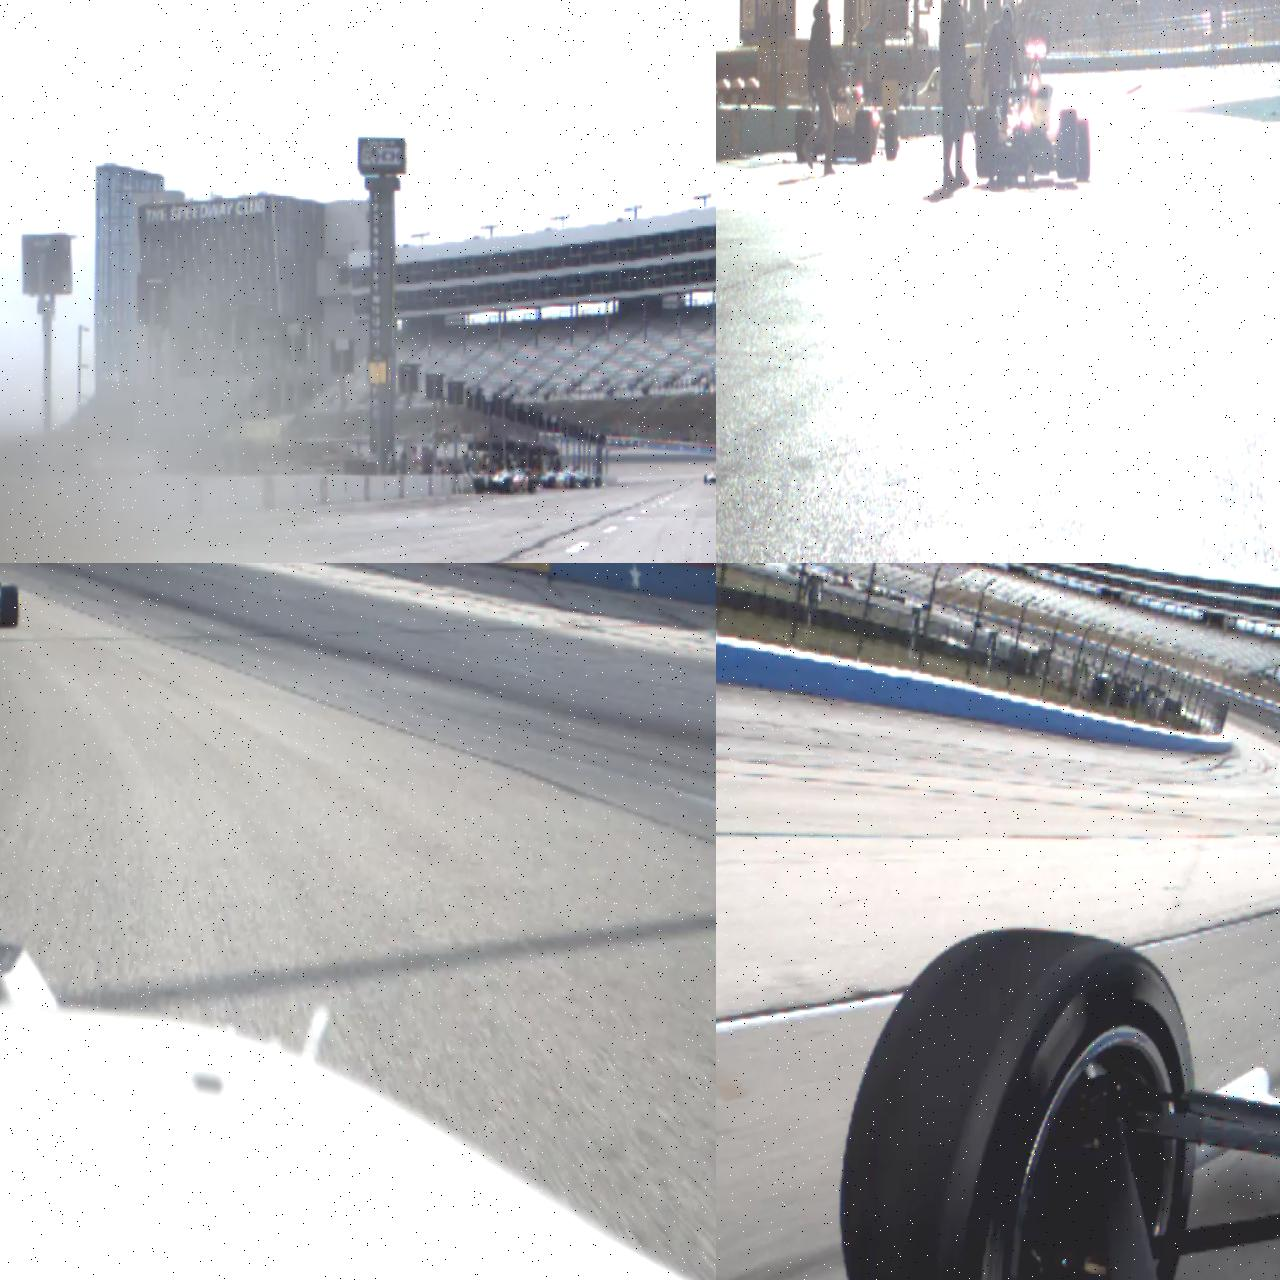AV: (974, 43, 1092, 183), (795, 62, 901, 164), (704, 467, 716, 484)
Wheel: (835, 924, 1201, 1280), (975, 108, 998, 178), (1058, 109, 1080, 177), (795, 110, 815, 162), (1076, 117, 1091, 183), (855, 111, 873, 163), (0, 583, 19, 629), (885, 110, 899, 161), (504, 477, 513, 495), (475, 478, 484, 493), (527, 479, 536, 493), (584, 477, 592, 489), (594, 477, 601, 489), (570, 476, 576, 489), (549, 477, 554, 488), (704, 476, 708, 483)
